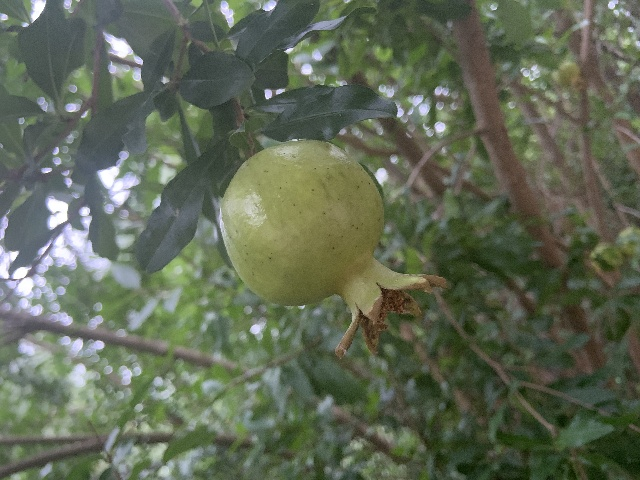mid-growth: (219, 140, 447, 359), (551, 61, 586, 91)
